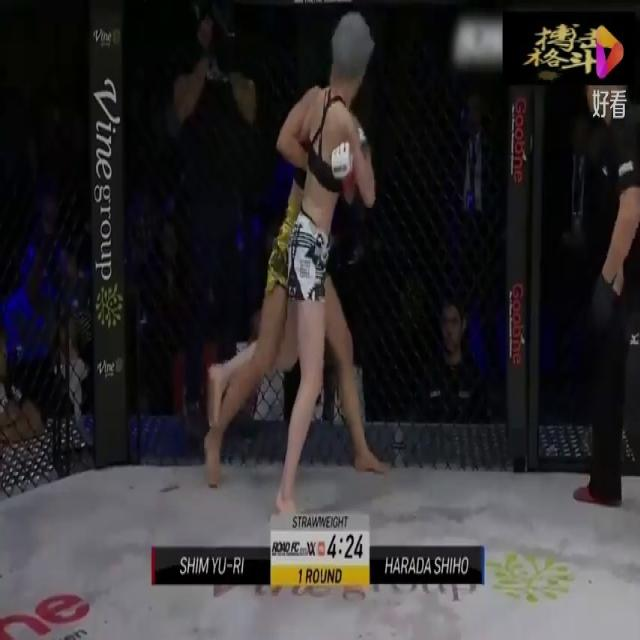fight: (207, 11, 379, 522), (203, 74, 389, 489)
